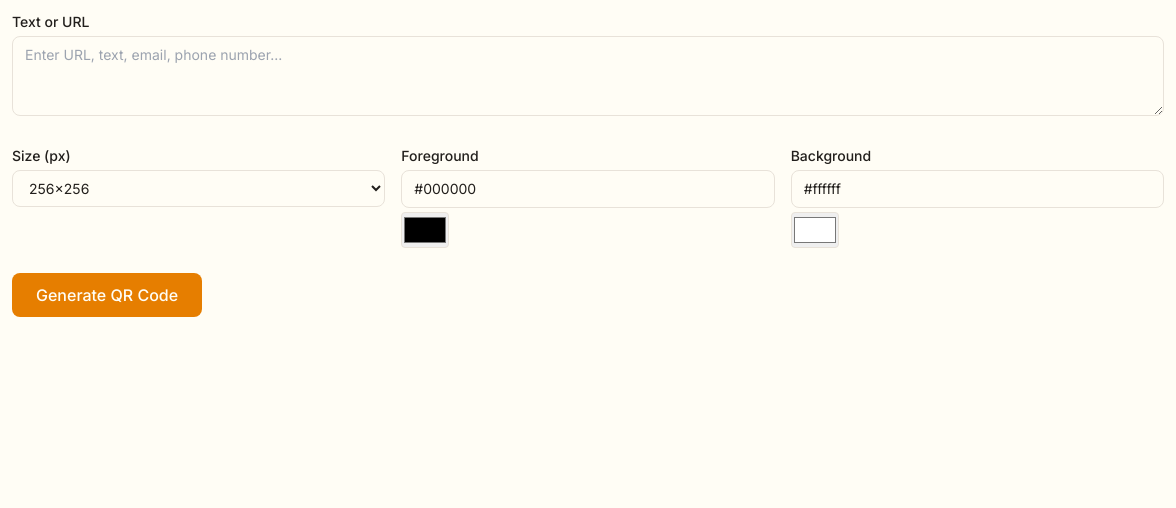
QrCodeGenerator › clears error when generating with valid input after error
This screenshot has width=1176, height=508.
Note: First trigger error
Click the button "Generate QR Code" at (107, 295), box [12, 273, 202, 317]
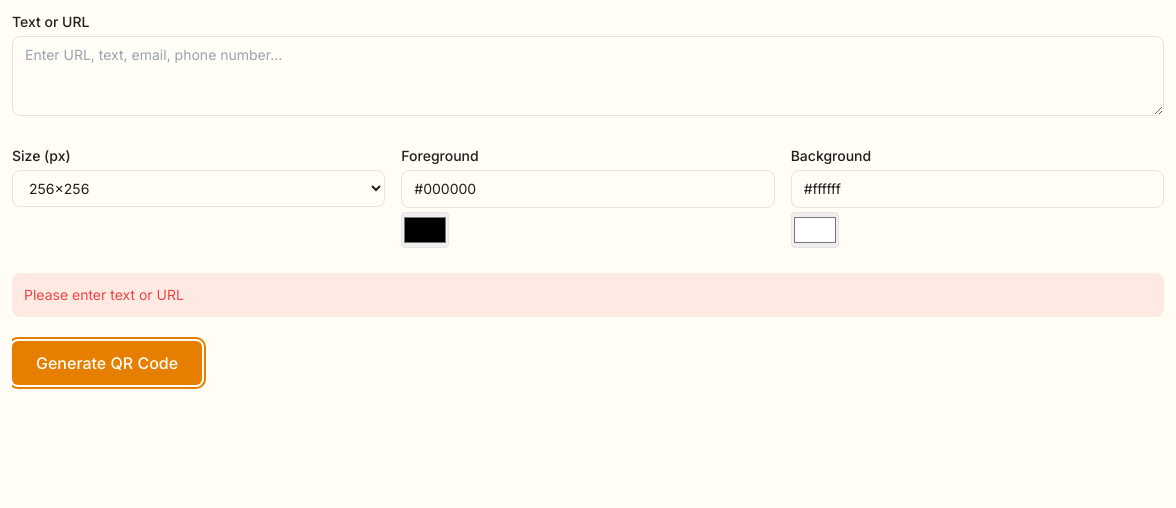
expect the text "Please enter text or URL" is shown: met, box [12, 273, 1164, 317]
Note: Then enter text and generate
Type "test" into the text box with placeholder "Enter URL, text, email, phone number..." at (588, 76), box [12, 36, 1164, 116]
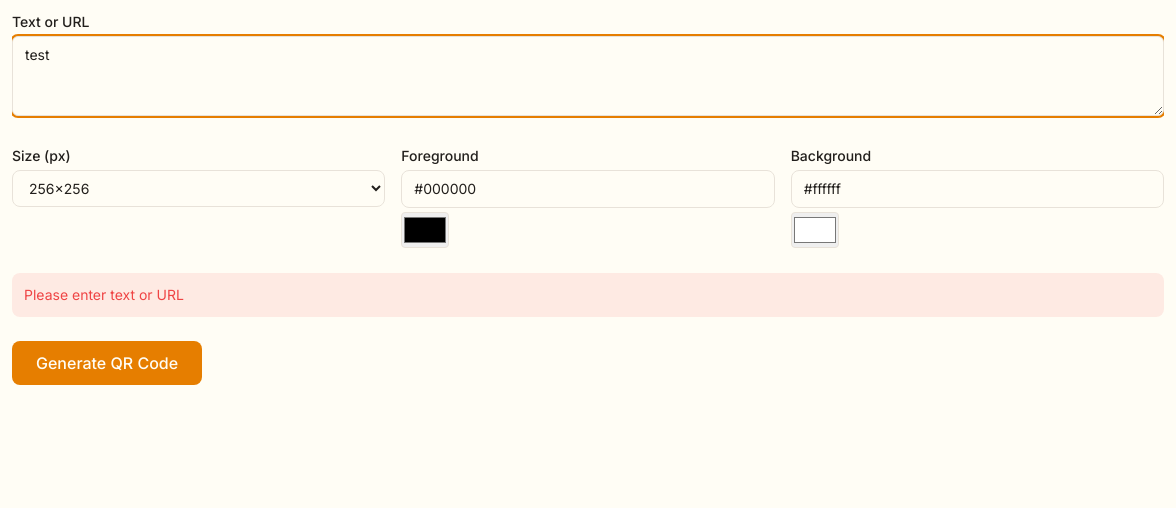
Click the button "Generate QR Code" at (107, 363), box [12, 341, 202, 385]
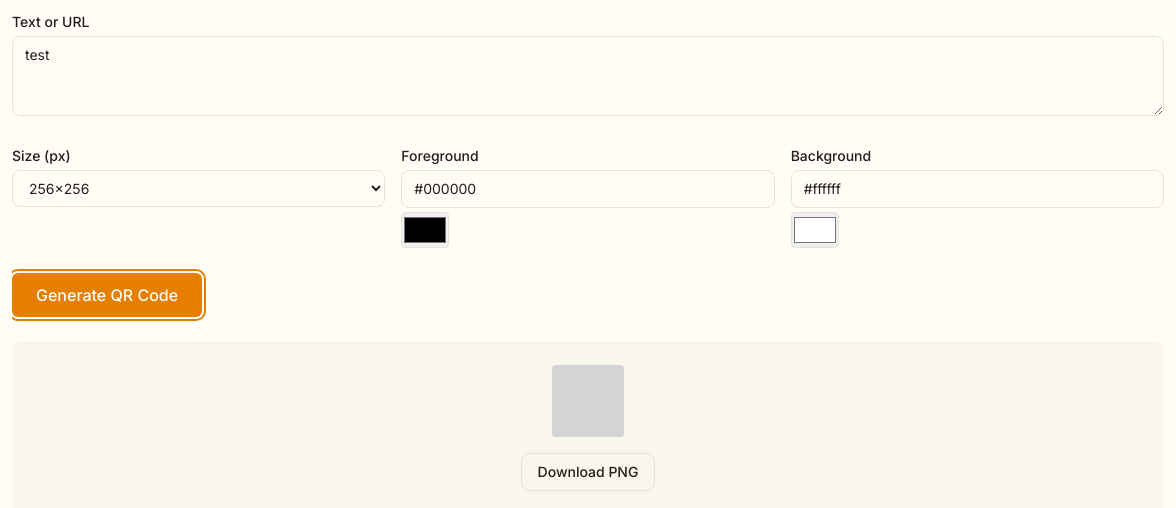
expect the text "Please enter text or URL" is gone: met
